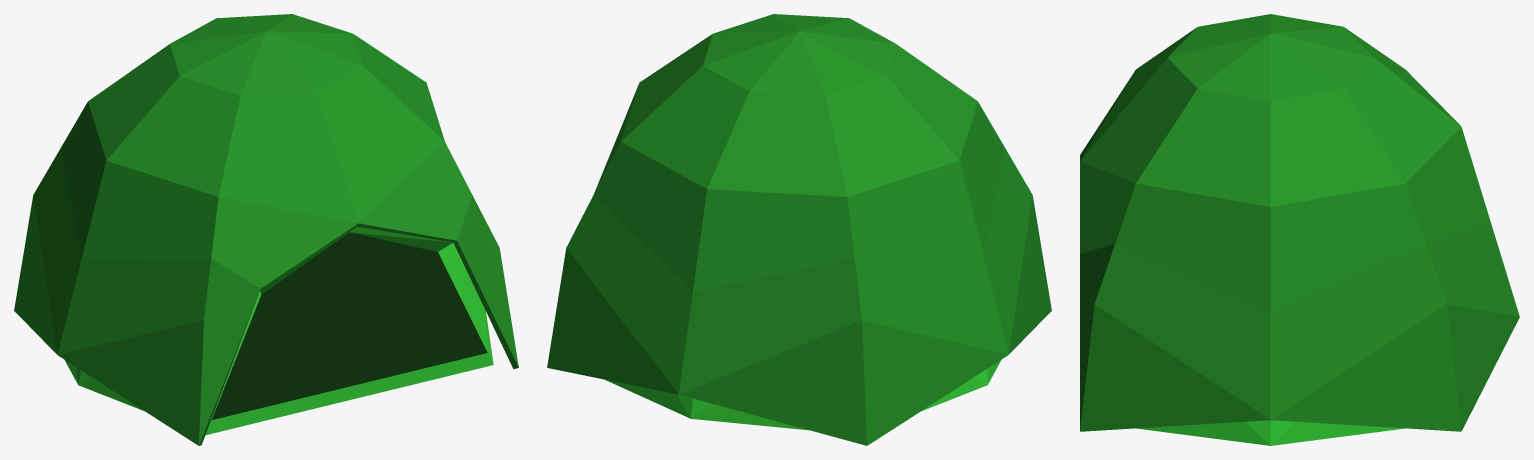
File: Tent_2_Green.fbx
3 views of the same model, side by side, from view 1: azimuth 30°, elevation 25°; view 2: azimuth 150°, elevation 25°; view 3: azimuth 270°, elevation 25° (orthographic). The views are drawn at different scales.
Visible parts, largest first — view 1: Tent_2_Green; view 2: Tent_2_Green; view 3: Tent_2_Green.
Boxes of the visible parts, x1,y1,x2,y2 form: Tent_2_Green: (14,14,518,445); Tent_2_Green: (547,14,1051,445); Tent_2_Green: (1080,14,1519,445).
Bounding box in the file's own units: 259 × 183 × 228.
